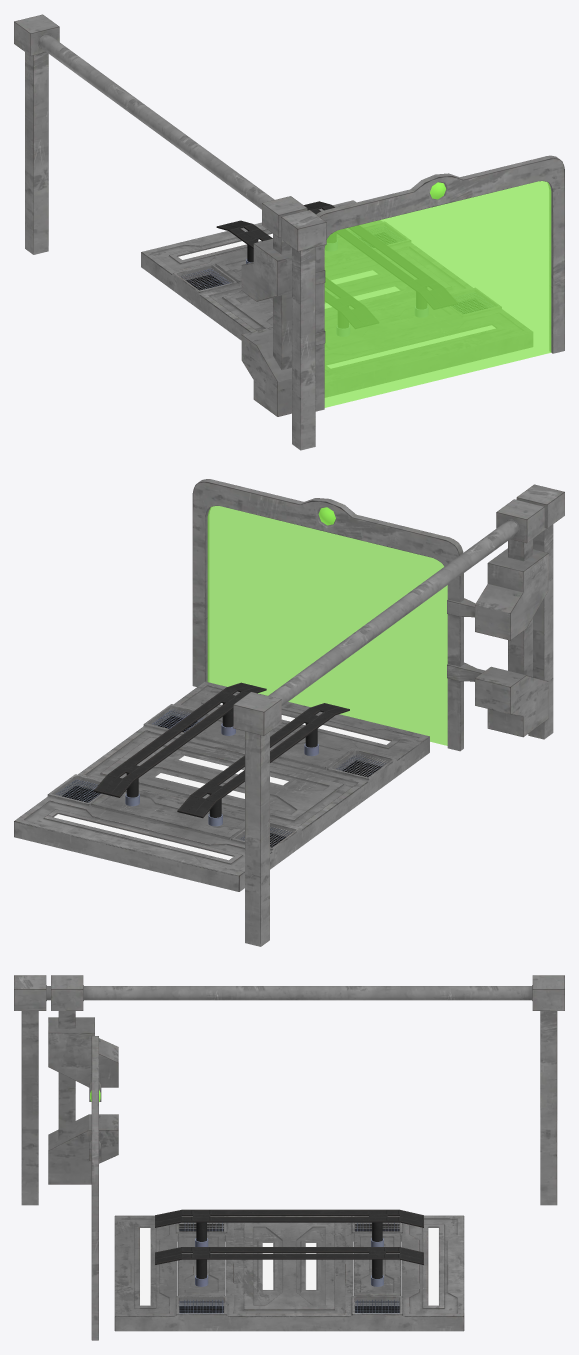
Rendered from sci-fi_car_lift_cyberpunk_style.glb.
3 views of the same model, one above another, from view 1: azimuth 30°, elevation 25°; view 2: azimuth 150°, elevation 25°; view 3: azimuth 270°, elevation 25° (orthographic). The views are drawn at different scales.
Visible parts, largest first — view 1: Sci_Fi_Platform_Scanner_Geo, Sci_Fi_Platform_Laser_Geo_Sci_Fi_Platform_Laser_Shd_0, Sci_Fi_Platform_Base_Geo_Sci_Fi_Platform_Base_02_Shd_0, Sci_Fi_Platform_Base_Geo_Sci_Fi_Platform_Base_01_Shd_0, Sci_Fi_Platform_Loft_Geo_Sci_Fi_Platform_Loft_Shd_0; view 2: Sci_Fi_Platform_Scanner_Geo, Sci_Fi_Platform_Base_Geo_Sci_Fi_Platform_Base_02_Shd_0, Sci_Fi_Platform_Base_Geo_Sci_Fi_Platform_Base_01_Shd_0, Sci_Fi_Platform_Laser_Geo_Sci_Fi_Platform_Laser_Shd_0, Sci_Fi_Platform_Loft_Geo_Sci_Fi_Platform_Loft_Shd_0; view 3: Sci_Fi_Platform_Base_Geo_Sci_Fi_Platform_Base_01_Shd_0, Sci_Fi_Platform_Base_Geo_Sci_Fi_Platform_Base_02_Shd_0, Sci_Fi_Platform_Laser_Geo_Sci_Fi_Platform_Laser_Shd_0, Sci_Fi_Platform_Scanner_Geo, Sci_Fi_Platform_Loft_Geo_Sci_Fi_Platform_Loft_Shd_0.
Part boxes in pixels (bbox=[...]): Sci_Fi_Platform_Scanner_Geo: bbox=[241, 155, 564, 416]; Sci_Fi_Platform_Laser_Geo_Sci_Fi_Platform_Laser_Shd_0: bbox=[14, 14, 326, 450]; Sci_Fi_Platform_Base_Geo_Sci_Fi_Platform_Base_02_Shd_0: bbox=[151, 221, 532, 397]; Sci_Fi_Platform_Base_Geo_Sci_Fi_Platform_Base_01_Shd_0: bbox=[141, 200, 532, 382]; Sci_Fi_Platform_Loft_Geo_Sci_Fi_Platform_Loft_Shd_0: bbox=[180, 201, 492, 336]; Sci_Fi_Platform_Scanner_Geo: bbox=[192, 479, 548, 751]; Sci_Fi_Platform_Base_Geo_Sci_Fi_Platform_Base_02_Shd_0: bbox=[14, 685, 419, 891]; Sci_Fi_Platform_Base_Geo_Sci_Fi_Platform_Base_01_Shd_0: bbox=[14, 681, 429, 891]; Sci_Fi_Platform_Laser_Geo_Sci_Fi_Platform_Laser_Shd_0: bbox=[233, 484, 564, 946]; Sci_Fi_Platform_Loft_Geo_Sci_Fi_Platform_Loft_Shd_0: bbox=[56, 682, 388, 847]; Sci_Fi_Platform_Base_Geo_Sci_Fi_Platform_Base_01_Shd_0: bbox=[114, 1215, 464, 1331]; Sci_Fi_Platform_Base_Geo_Sci_Fi_Platform_Base_02_Shd_0: bbox=[121, 1216, 457, 1314]; Sci_Fi_Platform_Laser_Geo_Sci_Fi_Platform_Laser_Shd_0: bbox=[14, 975, 564, 1205]; Sci_Fi_Platform_Scanner_Geo: bbox=[48, 975, 118, 1340]; Sci_Fi_Platform_Loft_Geo_Sci_Fi_Platform_Loft_Shd_0: bbox=[155, 1209, 423, 1313].
Size of the model in its own units: 0.4551 by 0.3171 by 0.7218.
Materials: 4 (4 with a texture image).
